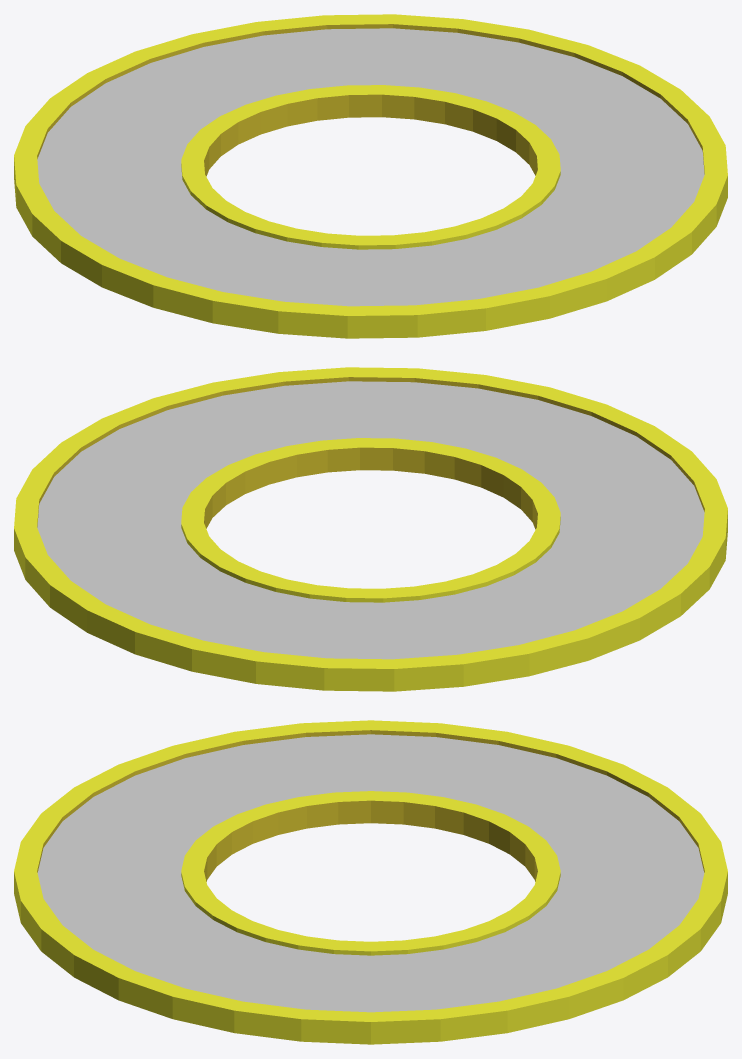
File: DCRing.fbx
The picture shows the model from 3 angles, top to bottom: view 1: azimuth 30°, elevation 25°; view 2: azimuth 150°, elevation 25°; view 3: azimuth 270°, elevation 25°; orthographic projection.
Parts seen in each view (by area): view 1: DCRing; view 2: DCRing; view 3: DCRing.
Part boxes in pixels (<box>): DCRing: <box>14,14,727,338</box>; DCRing: <box>14,367,727,691</box>; DCRing: <box>14,720,727,1044</box>.
Size of the model in its own units: 100 by 100 by 3.48.
